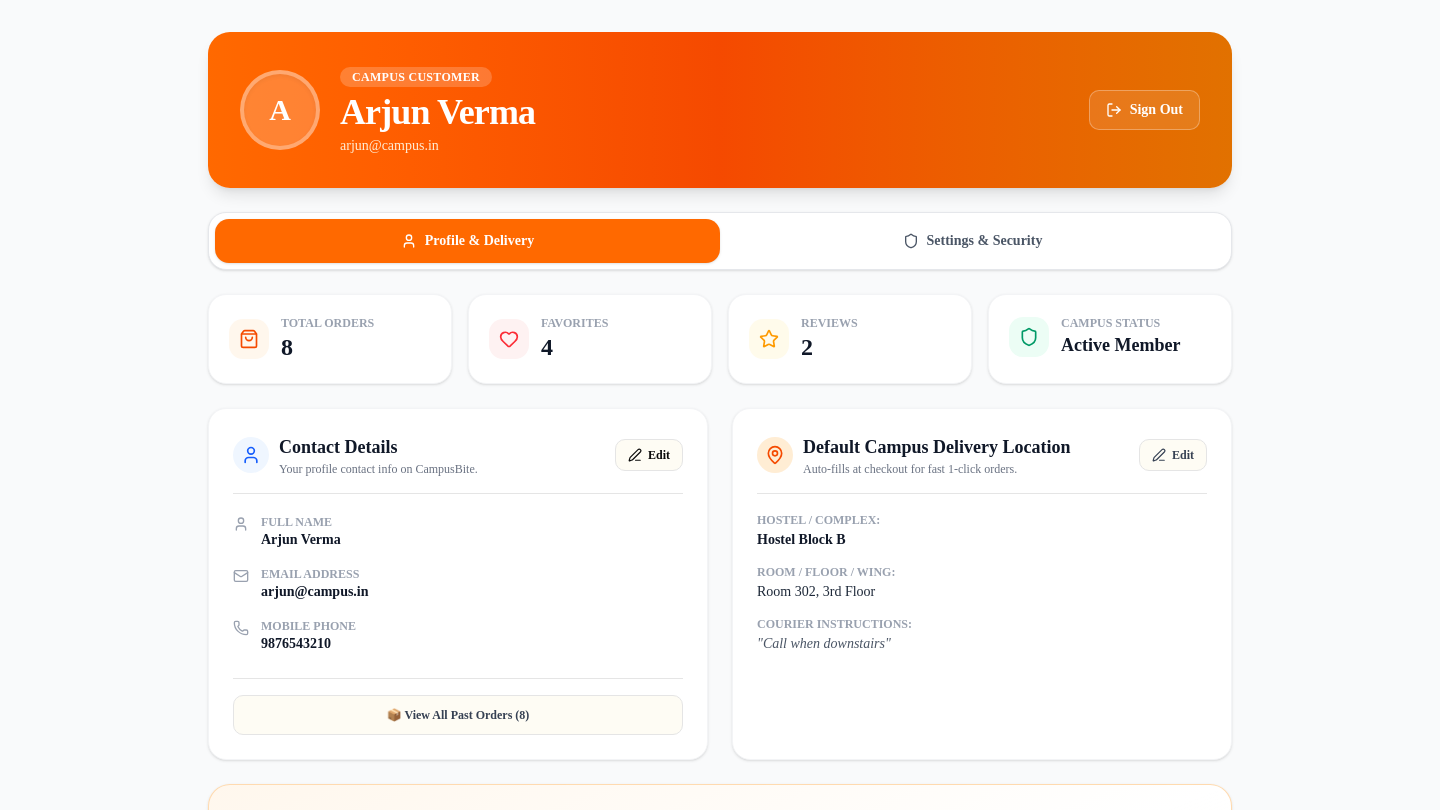
Test: ProfilePage Component › switches to Settings & Security tab and renders notification preferences and Danger Zone
Expected: the heading "Arjun Verma" is shown, [340,92,535,132]
Step 1. Click the button "Settings & Security" → (972, 241), box [720,219,1225,263]
(page scrolled)
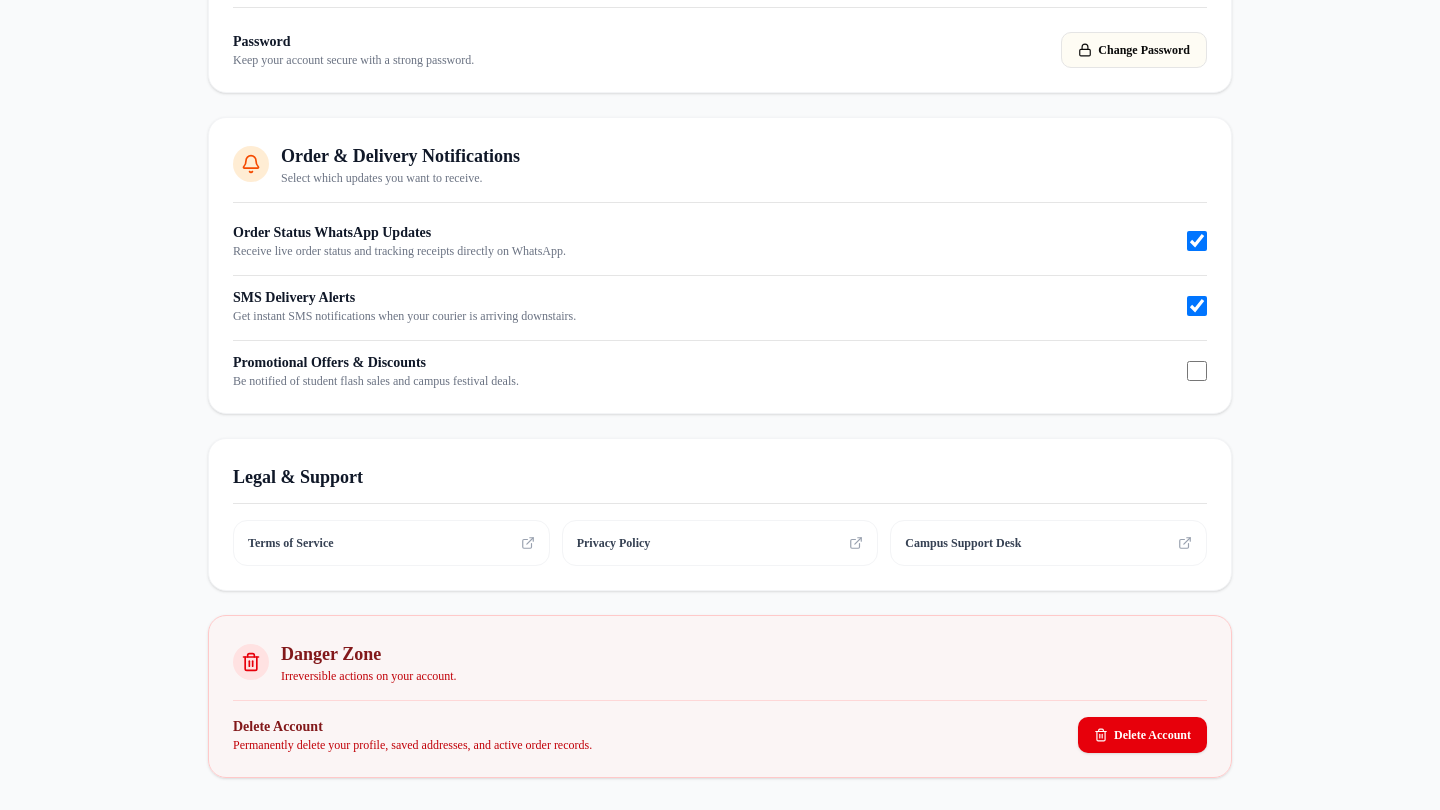
Expected: the heading "Order & Delivery Notifications" is shown, [281,142,520,170]
Expected: the heading "Legal & Support" is shown, [233,463,1207,504]
Expected: the heading "Danger Zone" is shown, [281,644,381,664]
